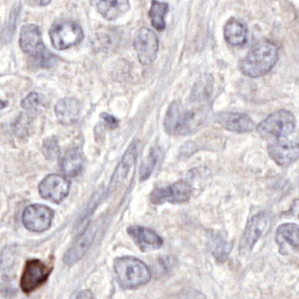Lymphocyte: (19, 257, 52, 292)
